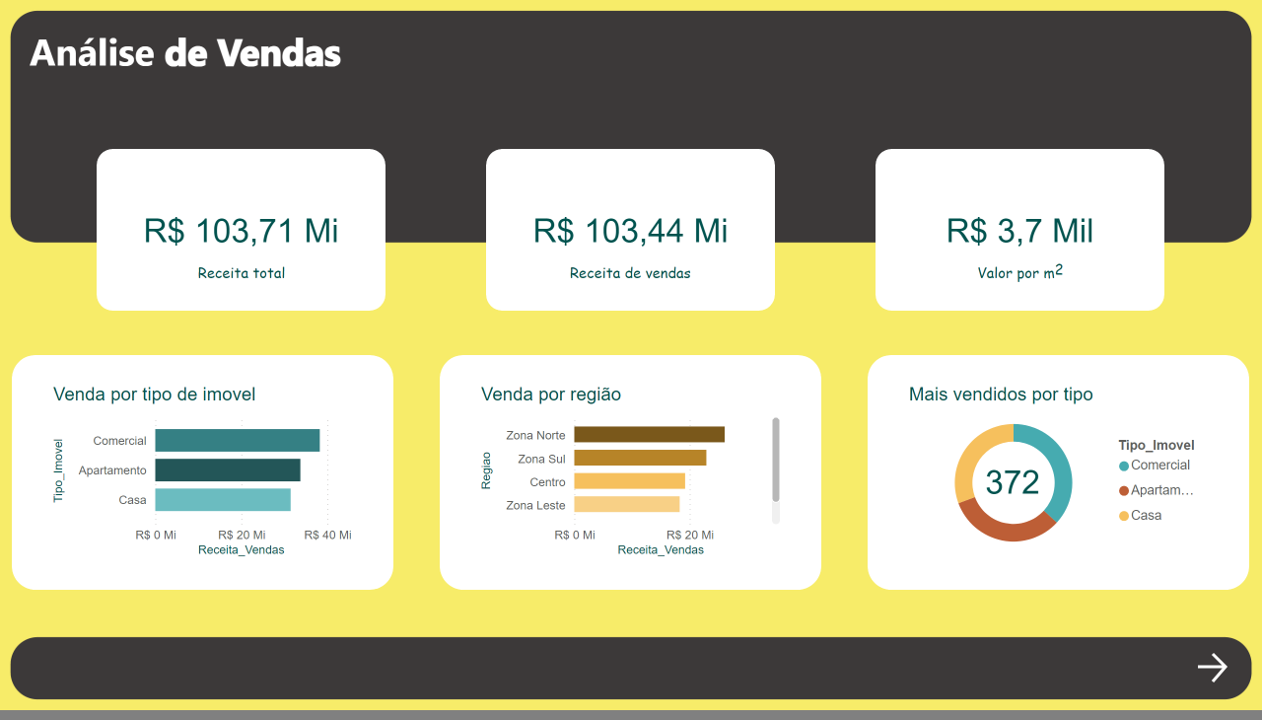

Layout of this report page (visuals, bound fields, positions):
{"tool":"powerbi","page":{"name":"Página 1","canvas":[1280,720],"ordinal":0},"visuals":[{"type":"shape","box":[493,151,293,164],"z":0},{"type":"shape","box":[98,151,293,164],"z":1000},{"type":"shape","box":[888,151,293,164],"z":2000},{"type":"shape","box":[446,360,387,238],"z":3000},{"type":"card","fields":{"Values":["imobiliaria_metricas.Receita_Total"]},"box":[127,174,235,118],"z":4000},{"type":"card","title":"Total de vendas","fields":{"Values":["imobiliaria_metricas.Receita_Vendas"]},"box":[522,174,235,118],"z":5000},{"type":"card","fields":{"Values":["imobiliaria_metricas.Preço_Media_M2"]},"box":[917,174,235,118],"z":6000},{"type":"textbox","box":[25,21,337,63],"z":7000},{"type":"barChart","title":"Venda por região","fields":{"Category":["imobiliaria_metricas.Regiao"],"Y":["imobiliaria_metricas.Receita_Vendas"]},"box":[483,389,313,180],"z":8000},{"type":"shape","box":[880,360,387,238],"z":9000},{"type":"shape","box":[12,360,387,238],"z":10000},{"type":"donutChart","title":"Mais vendidos por tipo","fields":{"Category":["imobiliaria_metricas.Tipo_Imovel"],"Y":["imobiliaria_metricas.Imoveis_Mais_Vendidos"]},"box":[917,389,313,180],"z":11000},{"type":"card","fields":{"Values":["imobiliaria_metricas.Volume_Vendas"]},"box":[994,468,66,40],"z":12000},{"type":"barChart","title":"Venda por tipo de imovel","fields":{"Category":["imobiliaria_metricas.Tipo_Imovel"],"Y":["imobiliaria_metricas.Receita_Vendas"]},"box":[49,389,313,180],"z":13000},{"type":"actionButton","box":[1209,657,42,40],"z":14000},{"type":"textbox","box":[576,261,128,31],"z":15000},{"type":"textbox","box":[976,261,118,31],"z":16000},{"type":"textbox","box":[186,261,118,31],"z":17000}]}

Visuals, with their boxes in screenshot pixels (x1, y1, x2, y2), scaled from the page's 1280x720 canvas onto the 1262x720 screenshot:
shape: 486/151/775/315
shape: 97/151/386/315
shape: 876/151/1164/315
shape: 440/360/821/598
card - imobiliaria_metricas.Receita_Total: 125/174/357/292
"Total de vendas" card: 515/174/746/292
card - imobiliaria_metricas.Preço_Media_M2: 904/174/1136/292
textbox: 25/21/357/84
"Venda por região" barChart: 476/389/785/569
shape: 868/360/1249/598
shape: 12/360/393/598
"Mais vendidos por tipo" donutChart: 904/389/1213/569
card - imobiliaria_metricas.Volume_Vendas: 980/468/1045/508
"Venda por tipo de imovel" barChart: 48/389/357/569
actionButton: 1192/657/1233/697
textbox: 568/261/694/292
textbox: 962/261/1079/292
textbox: 183/261/300/292
